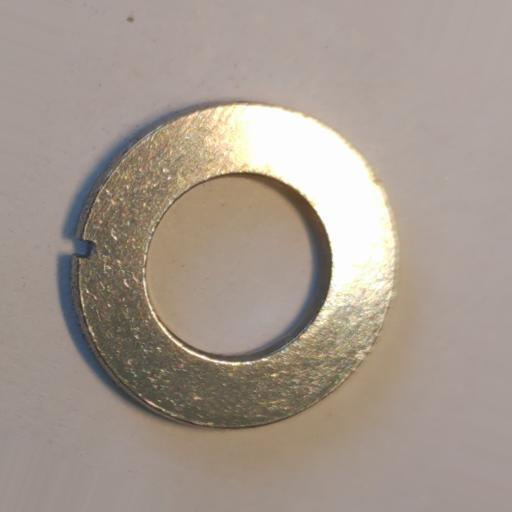burr: (71, 238, 96, 259)
